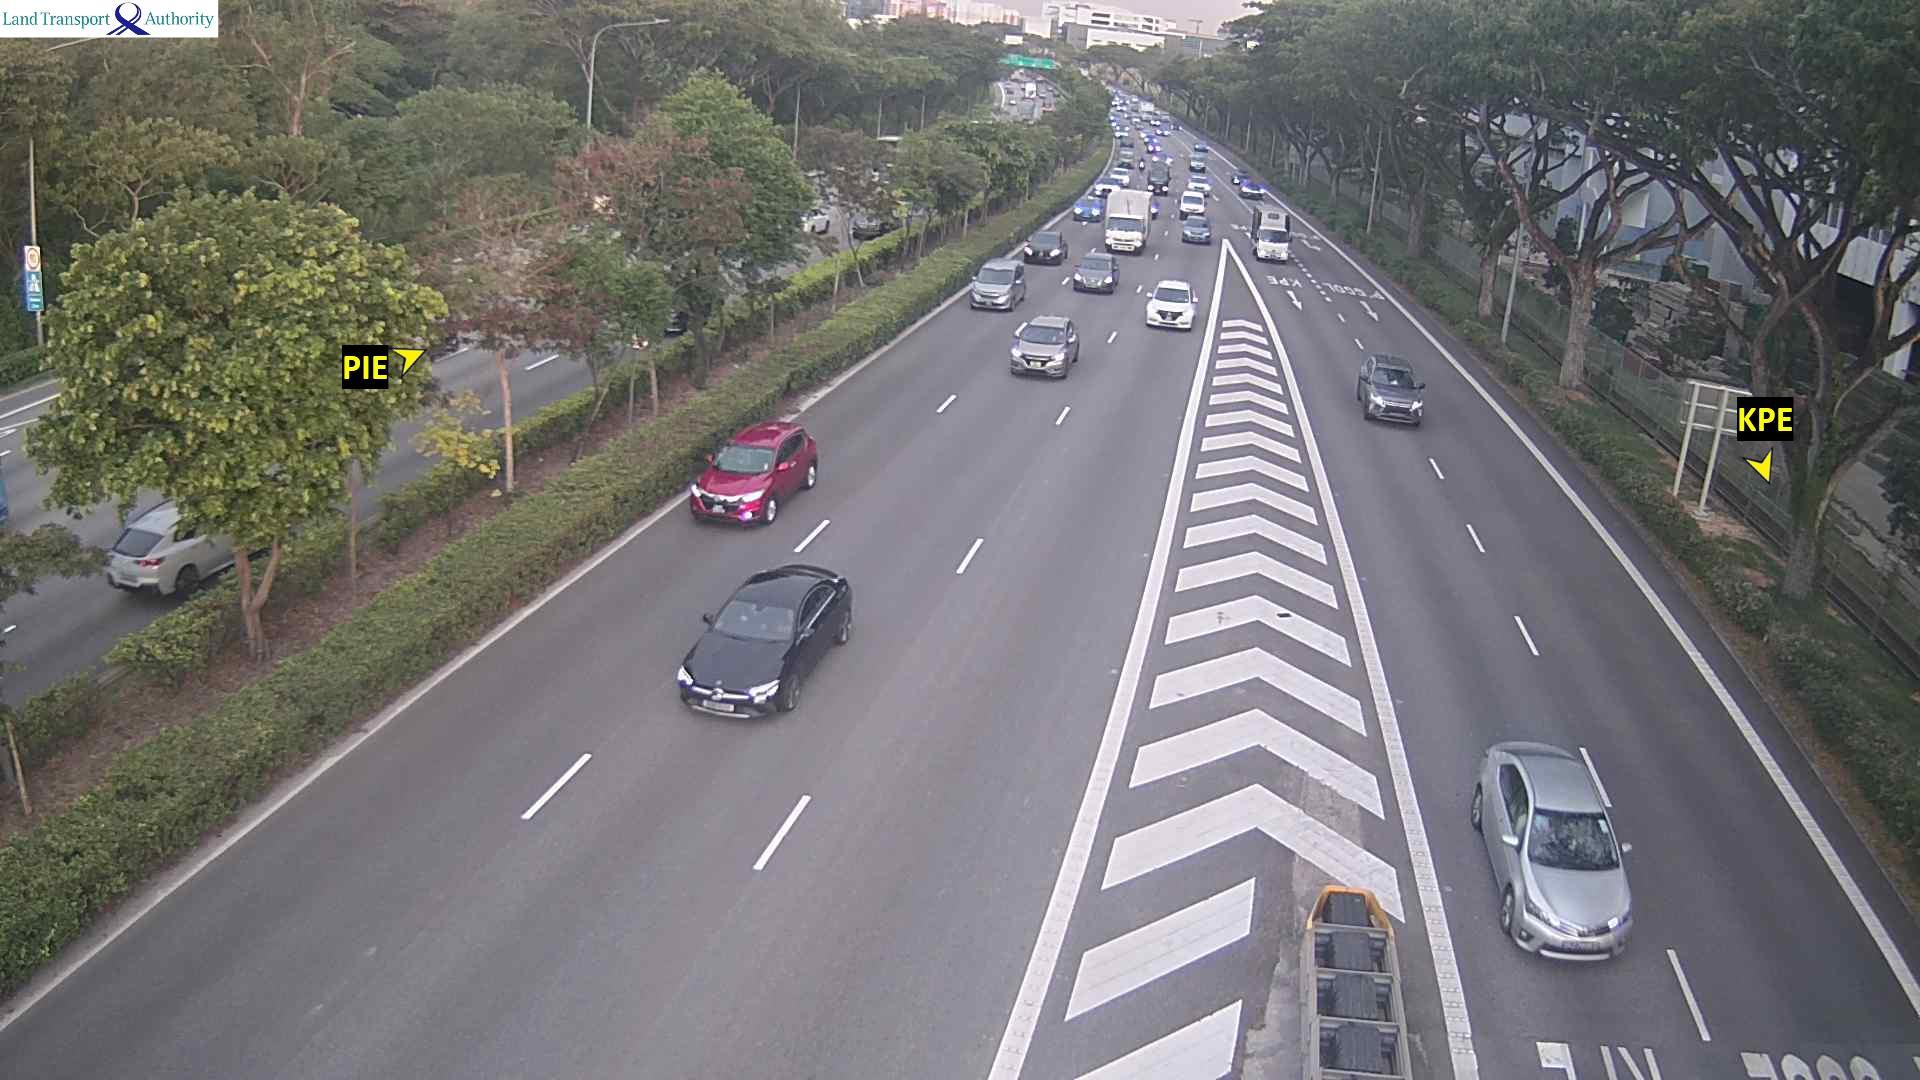incoming: (1502, 807, 1635, 964), (687, 607, 814, 724), (692, 448, 787, 533), (1010, 323, 1077, 378), (1365, 369, 1427, 425), (971, 268, 1025, 314), (1147, 286, 1201, 330), (1109, 198, 1145, 252), (1071, 256, 1118, 295), (1257, 214, 1290, 261), (1025, 231, 1062, 265), (1073, 196, 1100, 224), (1183, 220, 1212, 244), (1147, 170, 1170, 195), (1180, 194, 1207, 215), (1187, 175, 1212, 195), (1244, 182, 1267, 202), (1093, 181, 1121, 196), (1189, 156, 1208, 174)
